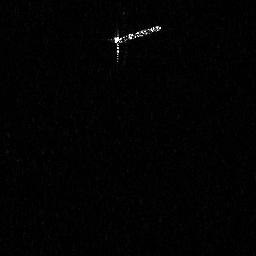ship: (107, 22, 163, 62)
